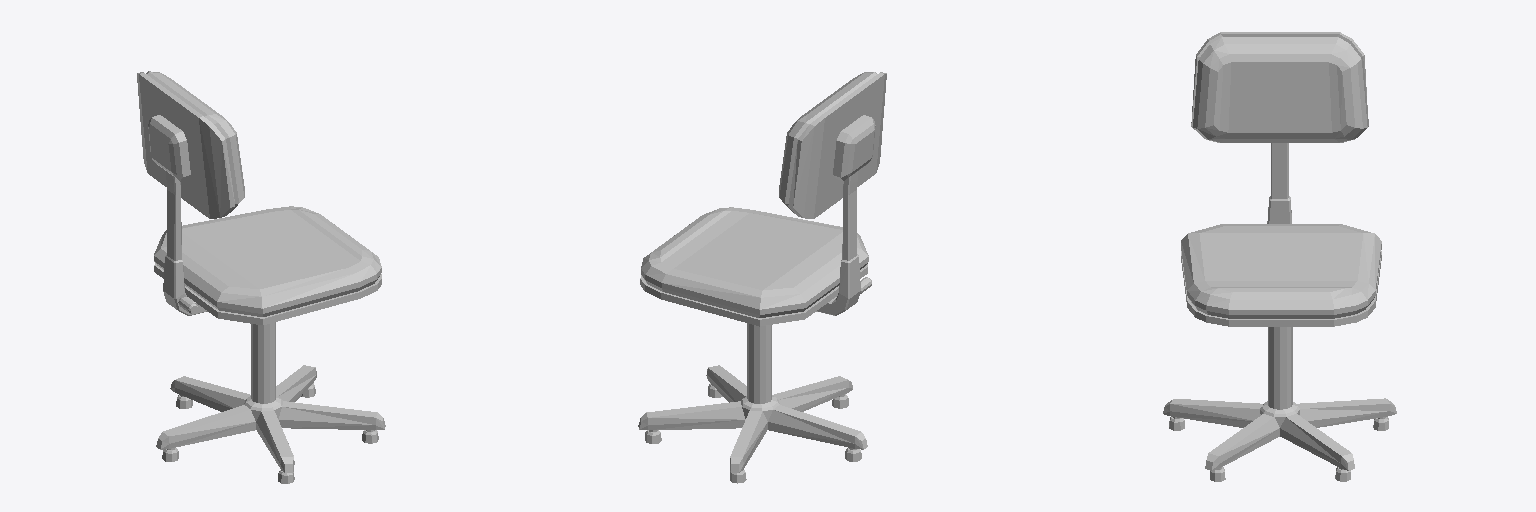
The model's file is PlaceHolderChair.obj.
3 renders of one model, left to right at view 1: azimuth 30°, elevation 25°; view 2: azimuth 150°, elevation 25°; view 3: azimuth 270°, elevation 25°, orthographic.
Parts seen in each view (by area): view 1: Cylinder01; view 2: Cylinder01; view 3: Cylinder01.
Boxes of the visible parts, x1,y1,x2,y2 form: Cylinder01: [137, 71, 385, 483]; Cylinder01: [638, 72, 886, 483]; Cylinder01: [1163, 32, 1396, 481].
Bounding box in the file's own units: 22.74 × 40.37 × 23.64.